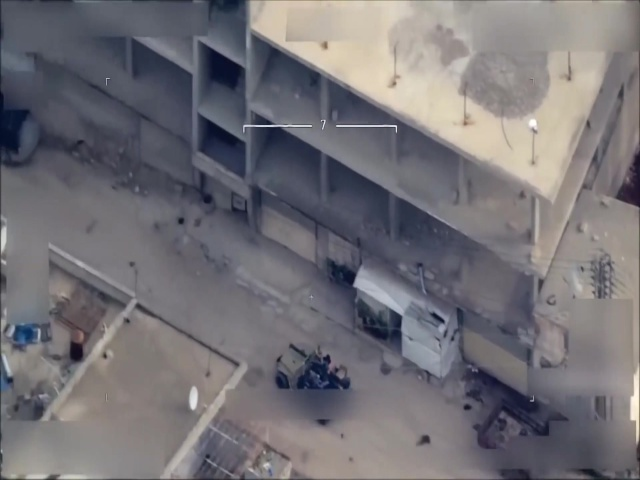vehicle: (273, 341, 354, 390)
